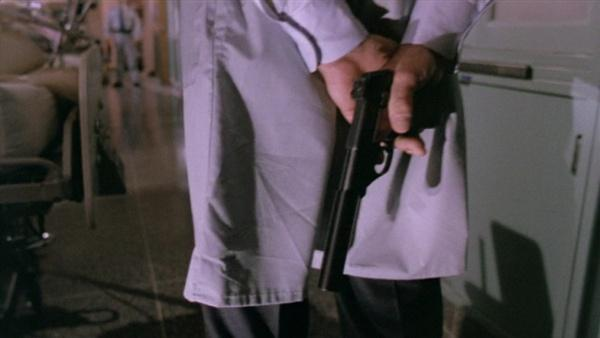Gun: (316, 70, 399, 295)
